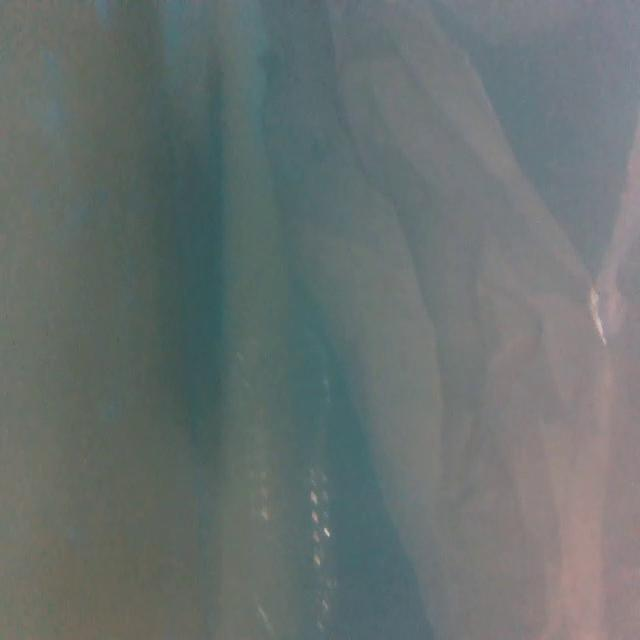plastic bags: (283, 10, 640, 638)
plastic bottle: (229, 318, 340, 640)
